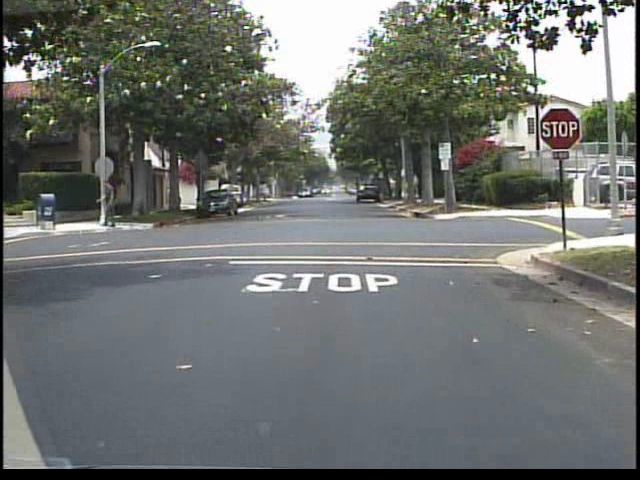person: (96, 172, 124, 233)
